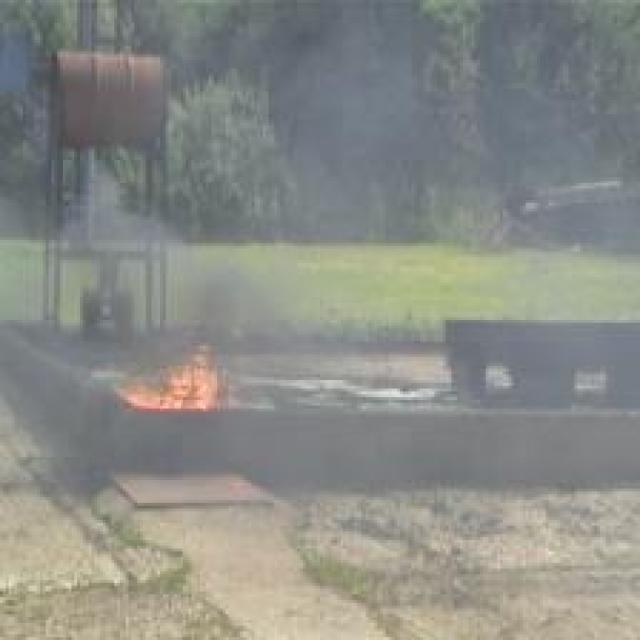Fire: (116, 346, 221, 408)
